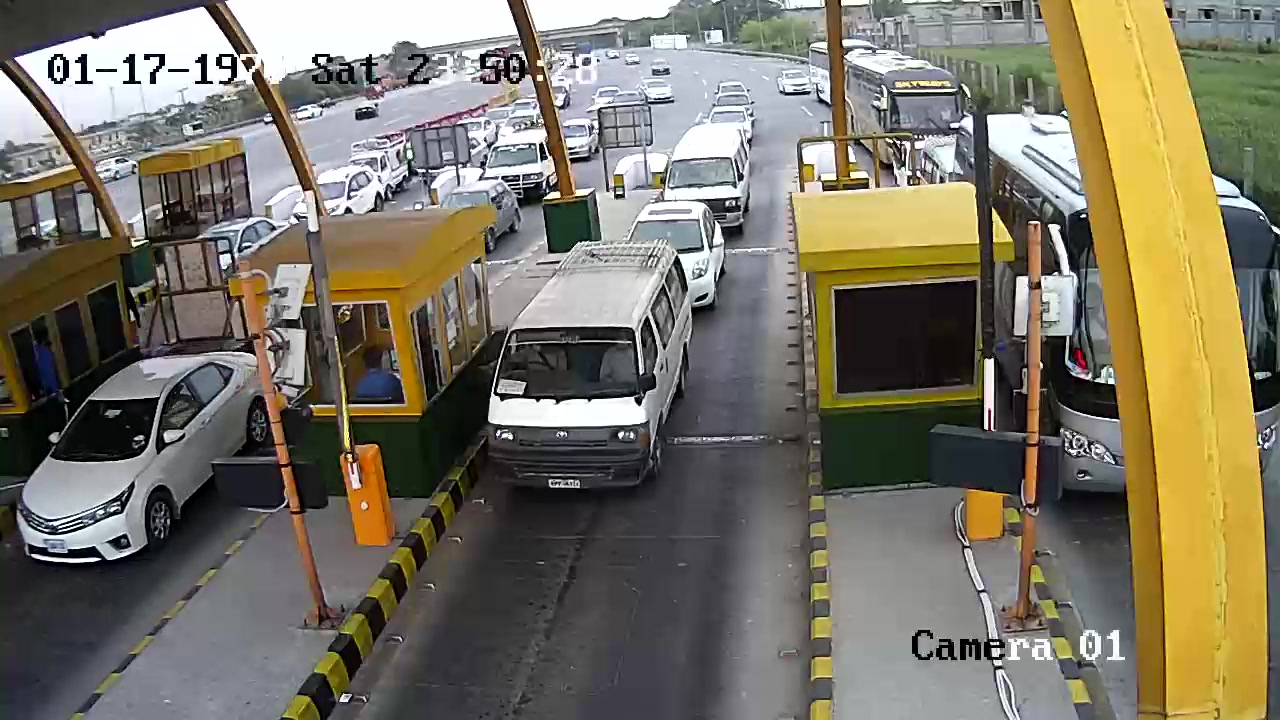F3: (485, 235, 707, 501)
